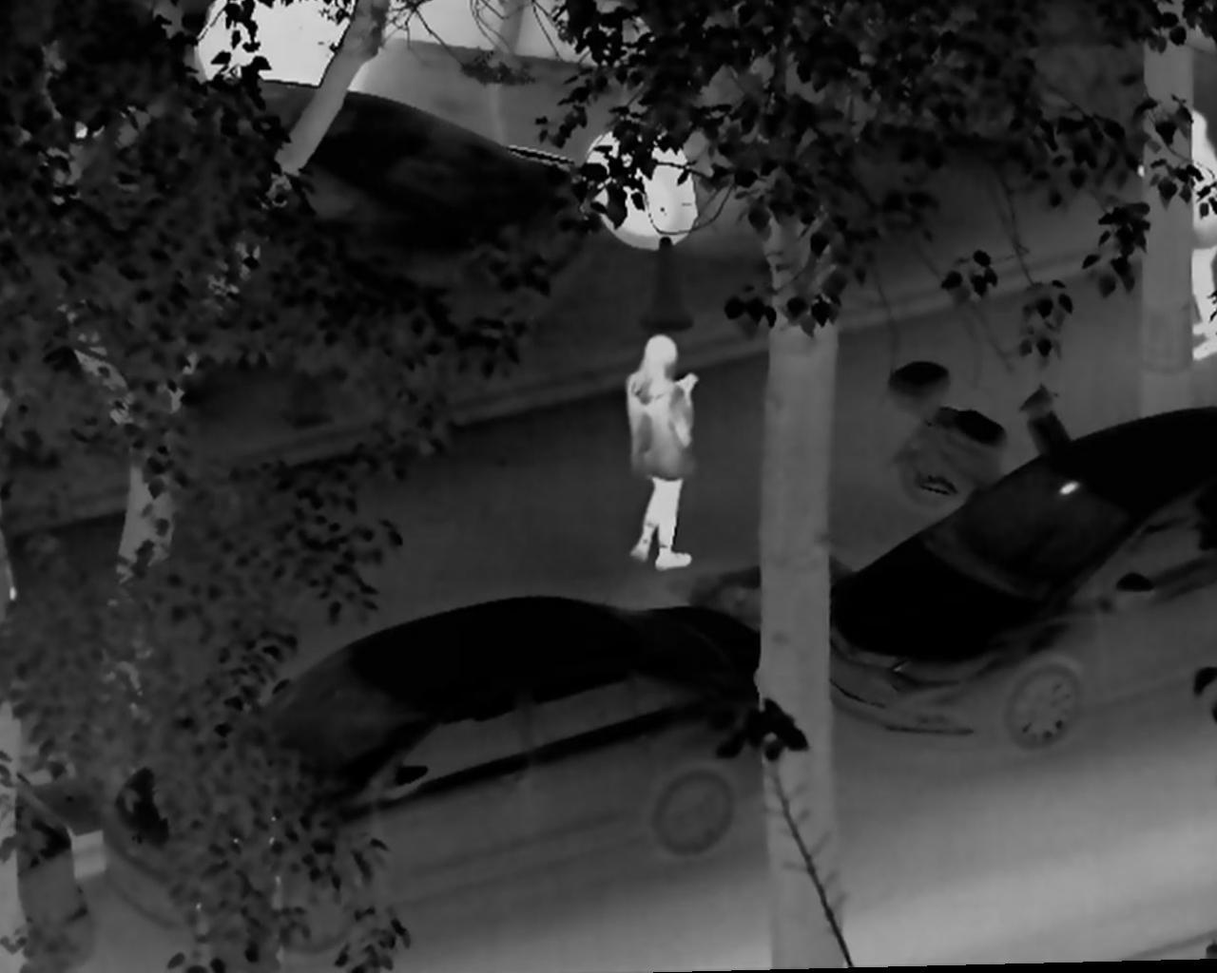person: (604, 328, 706, 572), (1135, 108, 1217, 371), (1132, 100, 1217, 336)
